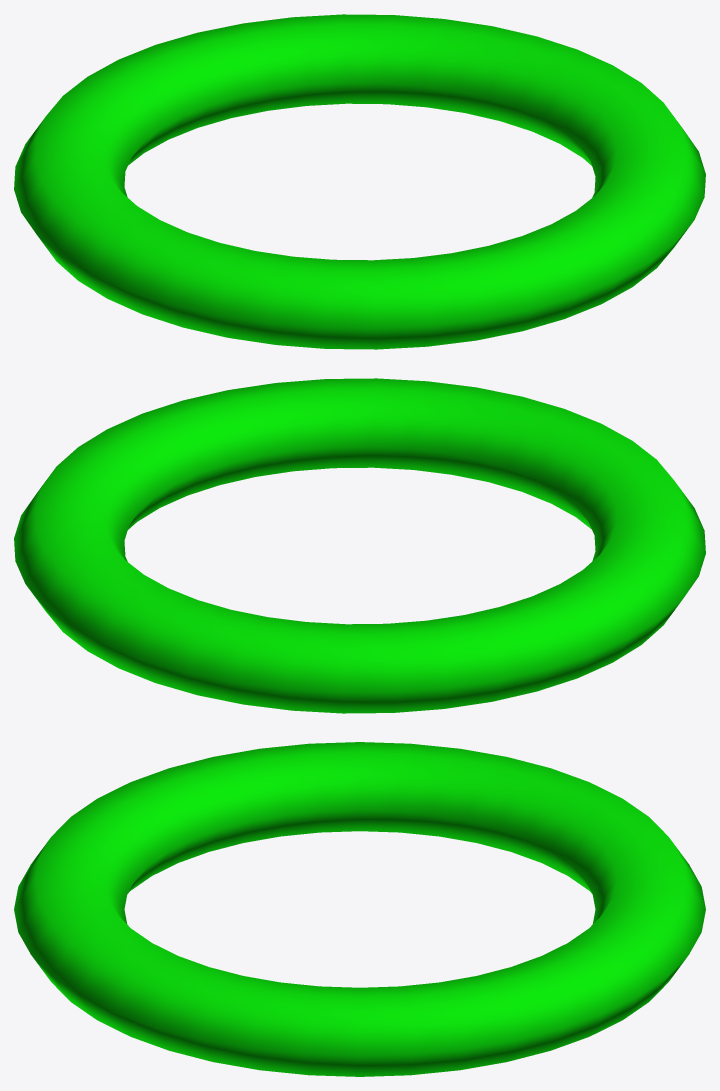
File: ApuntadorVerde.fbx
3 views of the same model, one above another, from view 1: azimuth 30°, elevation 25°; view 2: azimuth 150°, elevation 25°; view 3: azimuth 270°, elevation 25° (orthographic).
Parts seen in each view (by area): view 1: pPipe1; view 2: pPipe1; view 3: pPipe1.
Part boxes in pixels (bbox=[...]): pPipe1: bbox=[14, 14, 705, 349]; pPipe1: bbox=[14, 378, 705, 713]; pPipe1: bbox=[14, 742, 705, 1076].
Size of the model in its own units: 0.2514 by 0.0275 by 0.2514.
